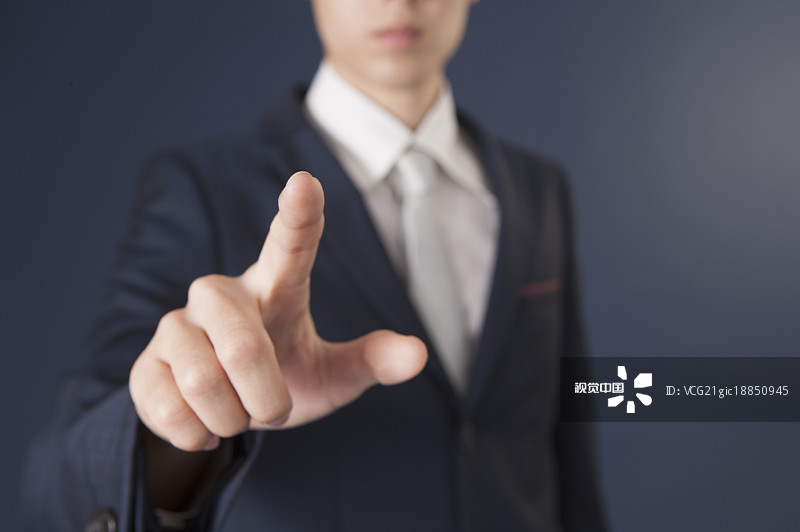no-phone: (74, 159, 476, 473)
